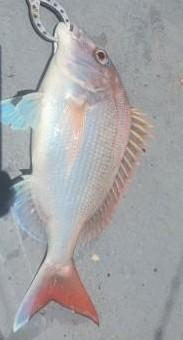fish: (0, 21, 157, 333)
